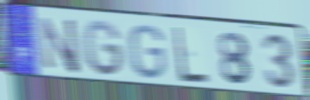3: (261, 32, 297, 92)
8: (218, 30, 252, 86)
G: (82, 18, 126, 79), (128, 23, 167, 80)
L: (173, 25, 210, 85)
N: (37, 15, 82, 76)
